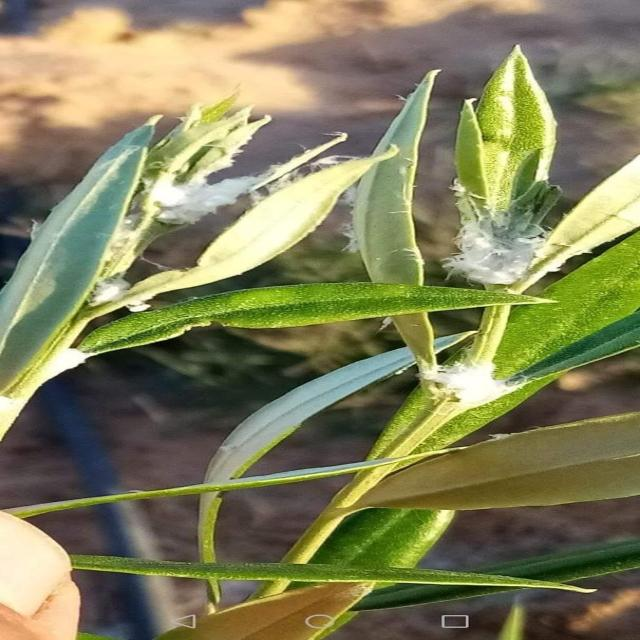Psyllid: (73, 110, 397, 330), (438, 179, 559, 286), (0, 348, 97, 441), (418, 358, 567, 414), (433, 336, 473, 356)
